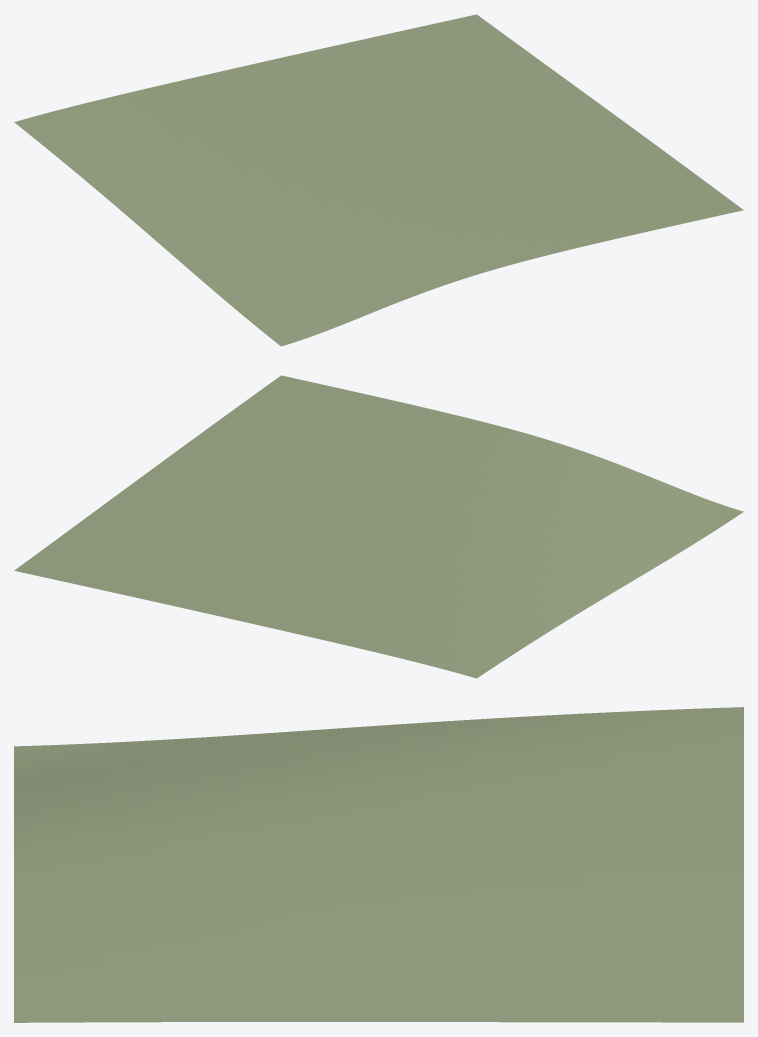
The model's file is desert-14-24.glb.
The picture shows the model from 3 angles, top to bottom: view 1: azimuth 30°, elevation 25°; view 2: azimuth 150°, elevation 25°; view 3: azimuth 270°, elevation 25°; orthographic projection. The views are drawn at different scales.
Parts seen in each view (by area): view 1: desert-14-24; view 2: desert-14-24; view 3: desert-14-24.
Boxes of the visible parts, x1,y1,x2,y2 form: desert-14-24: (14,14,743,346); desert-14-24: (14,375,743,678); desert-14-24: (14,707,743,1022).
Size of the model in its own units: 512 by 32.08 by 512.
